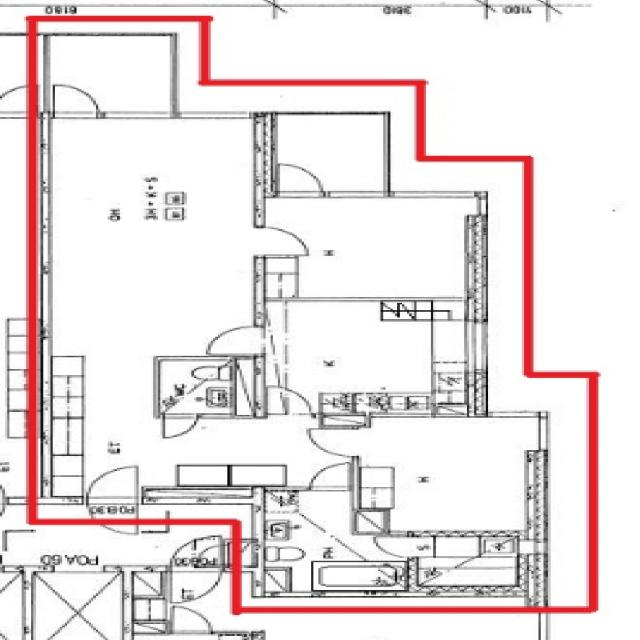door: (87, 496, 137, 534), (87, 466, 137, 504), (254, 227, 309, 255), (210, 327, 264, 354), (308, 429, 360, 457), (278, 165, 322, 197), (54, 86, 97, 118), (266, 387, 310, 418), (311, 462, 350, 490), (163, 414, 197, 438), (375, 537, 413, 557)
